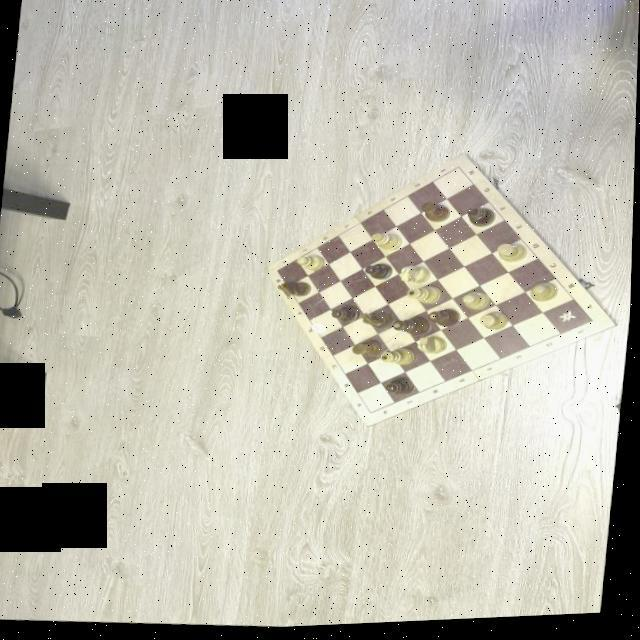chess-table-corners: (456, 168, 462, 172), (276, 270, 281, 274), (370, 414, 376, 416)
